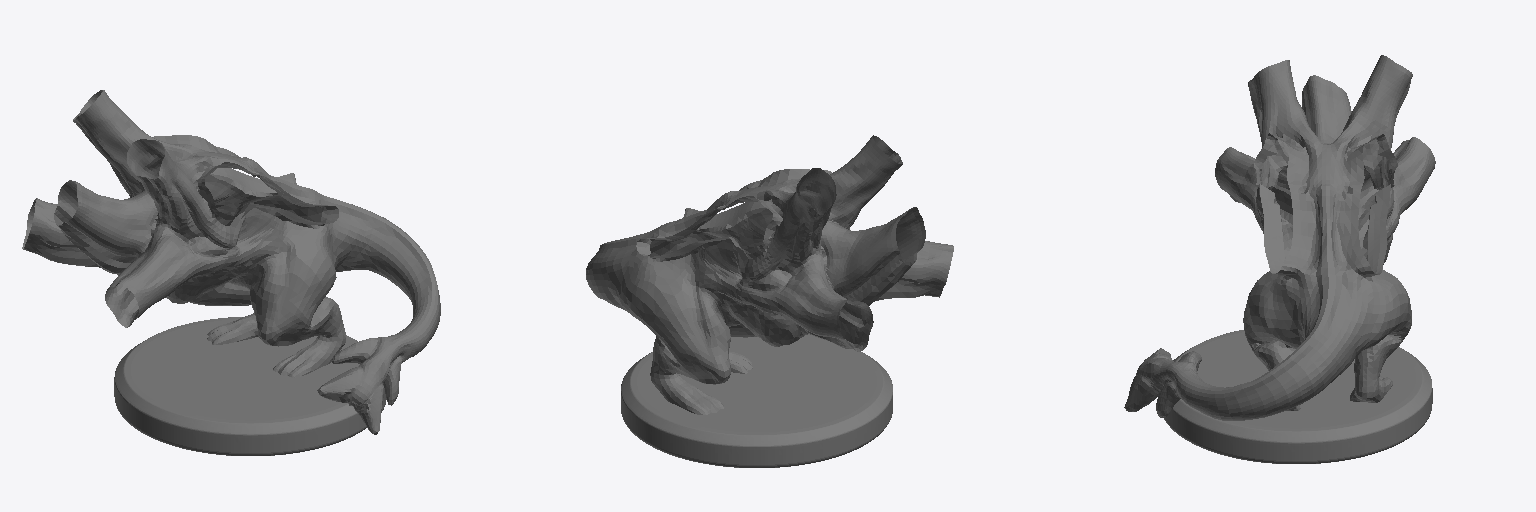
Rendered from Dragon_Cuerpo.obj.
The picture shows the model from 3 angles: view 1: azimuth 30°, elevation 25°; view 2: azimuth 150°, elevation 25°; view 3: azimuth 270°, elevation 25°; orthographic projection.
Visible parts, largest first — view 1: Dragon_Cuerpo; view 2: Dragon_Cuerpo; view 3: Dragon_Cuerpo.
Boxes of the visible parts, x1,y1,x2,y2 form: Dragon_Cuerpo: [22, 90, 440, 455]; Dragon_Cuerpo: [586, 135, 953, 467]; Dragon_Cuerpo: [1124, 55, 1435, 463].
Size of the model in its own units: 5.85 by 4.9 by 4.57.